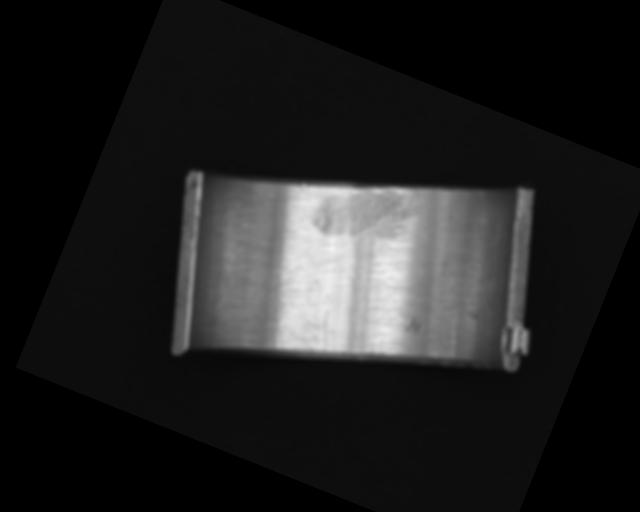bruise: (403, 315, 423, 338), (298, 181, 309, 192)
nick: (310, 309, 340, 354)
scratch: (306, 161, 425, 264)
